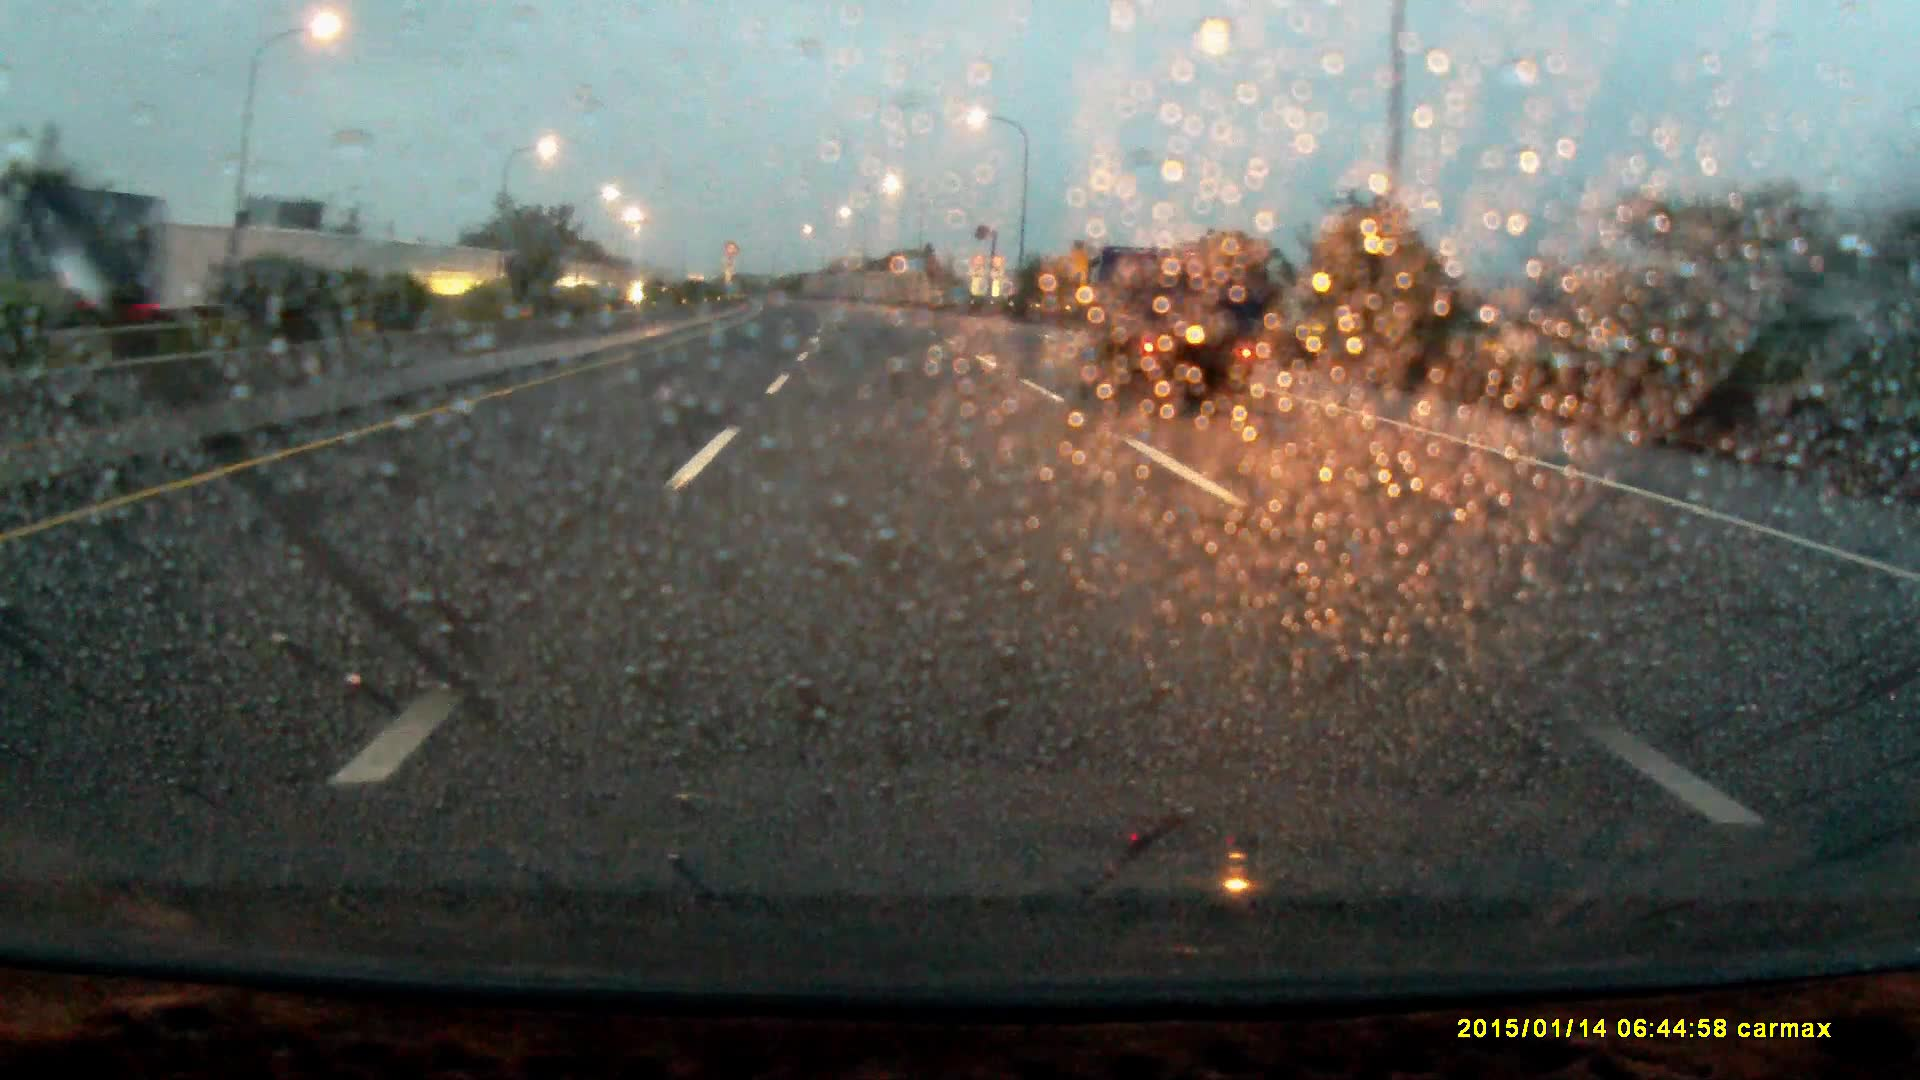vehicle: (1076, 247, 1253, 410), (18, 190, 162, 328)
